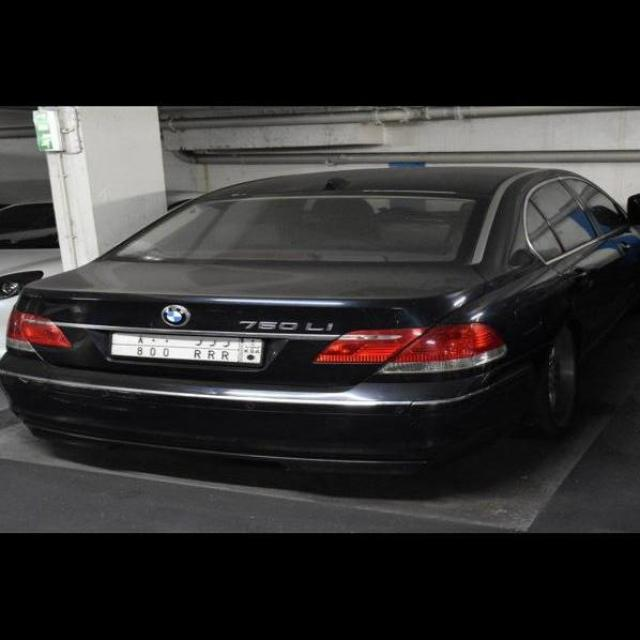license_plate: (111, 333, 261, 366)
